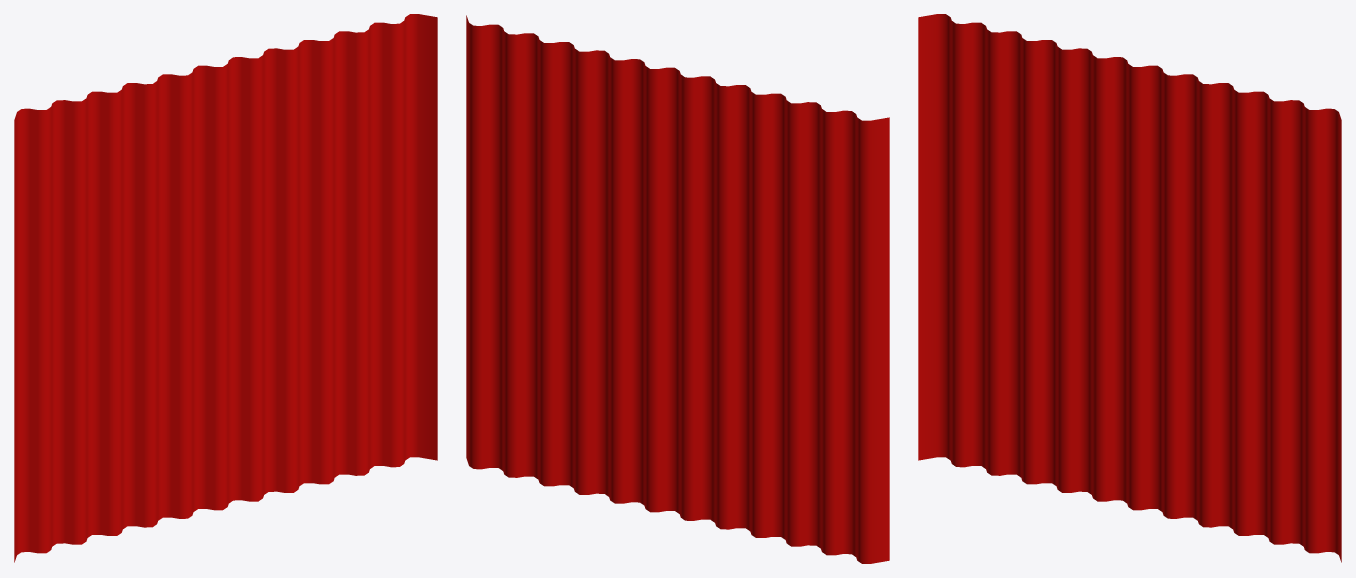
File: Curtain.fbx
3 views of the same model, side by side, from view 1: azimuth 30°, elevation 25°; view 2: azimuth 150°, elevation 25°; view 3: azimuth 330°, elevation 25° (orthographic).
Visible parts, largest first — view 1: Plane.002; view 2: Plane.002; view 3: Plane.002.
Boxes of the visible parts, x1,y1,x2,y2 form: Plane.002: (14,14,437,562); Plane.002: (466,15,889,563); Plane.002: (918,14,1341,562).
Size of the model in its own units: 1200 by 1200 by 50.21.
